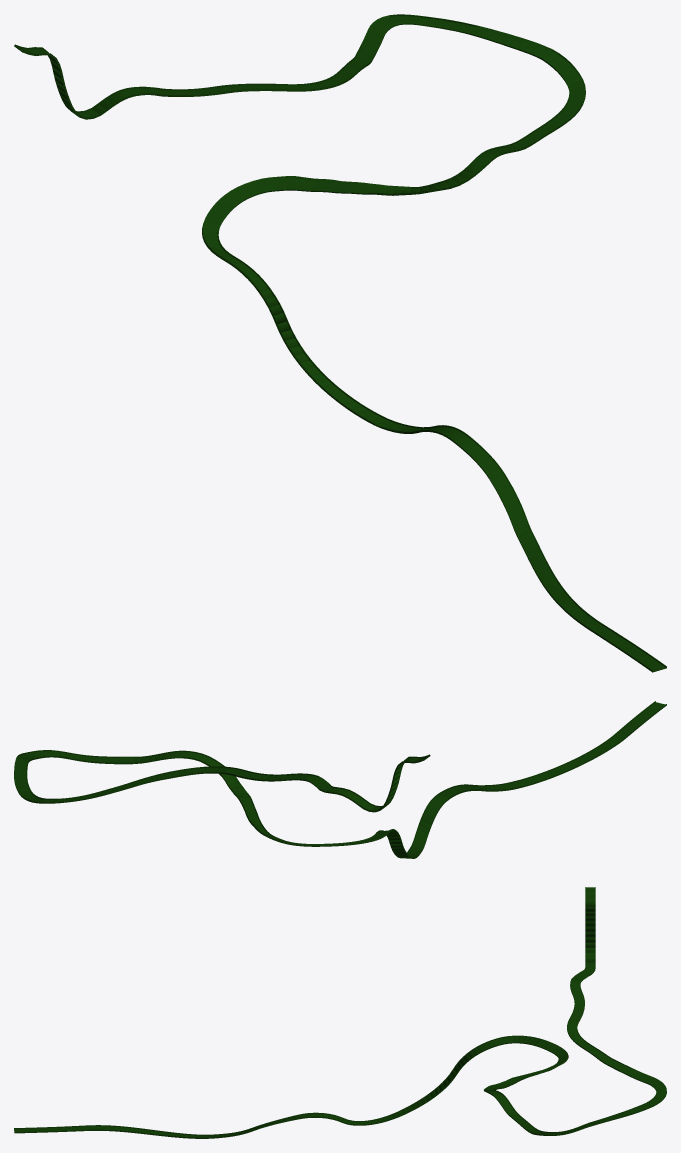
Rendered from Strecke 3.fbx.
3 views of the same model, one above another, from view 1: azimuth 30°, elevation 25°; view 2: azimuth 150°, elevation 25°; view 3: azimuth 270°, elevation 25° (orthographic). The views are drawn at different scales.
Visible parts, largest first — view 1: Cube; view 2: Cube; view 3: Cube.
Part boxes in pixels (bbox=[...]): Cube: bbox=[14, 14, 666, 672]; Cube: bbox=[14, 701, 666, 858]; Cube: bbox=[14, 887, 666, 1138].
Size of the model in its own units: 7310 by 4123 by 12542.
